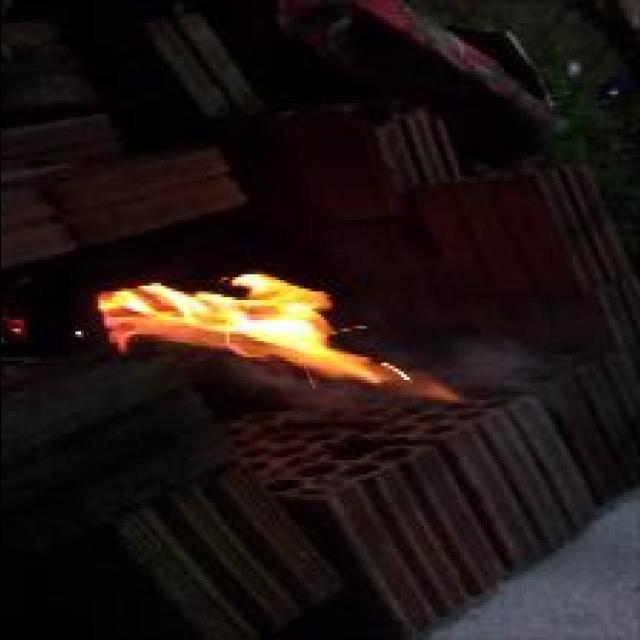Fire: (93, 276, 467, 398)
